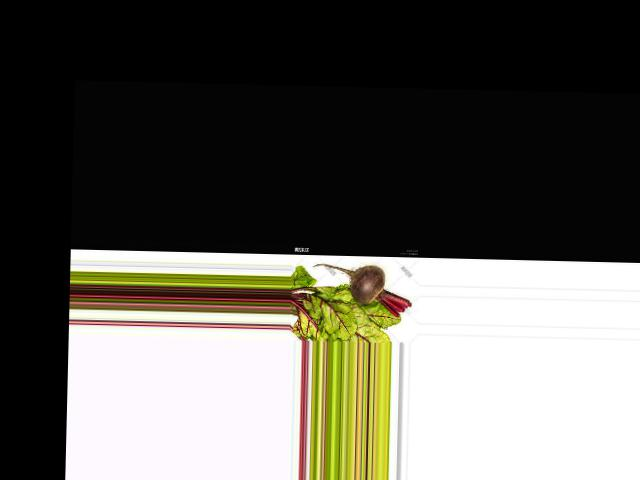beet: (312, 263, 412, 317)
